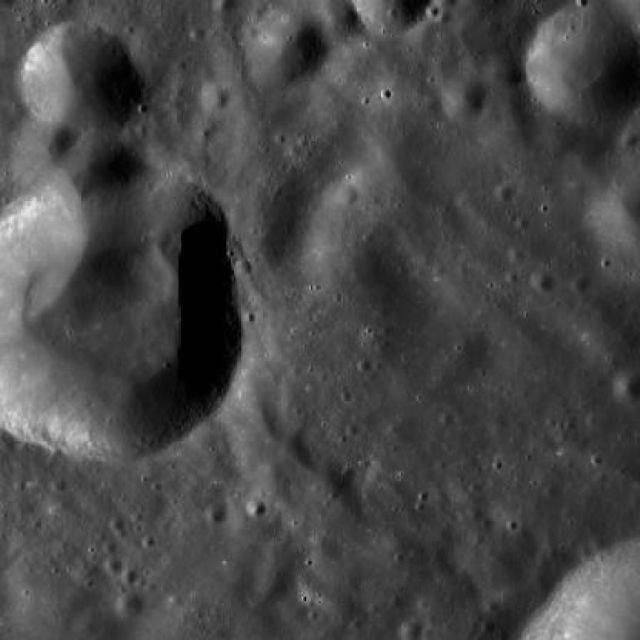crater: (0, 163, 246, 464), (265, 232, 418, 382), (310, 34, 438, 160), (21, 22, 144, 144), (323, 116, 446, 237), (208, 161, 316, 267), (272, 452, 368, 548), (52, 134, 146, 228), (240, 3, 328, 89), (235, 422, 318, 506), (10, 116, 86, 190), (284, 106, 358, 180), (463, 520, 534, 591), (220, 387, 280, 445), (296, 0, 366, 48), (372, 526, 428, 582), (224, 485, 280, 541), (441, 74, 488, 122), (412, 20, 456, 66), (536, 113, 578, 155), (252, 566, 292, 606), (124, 483, 164, 523), (454, 330, 492, 368), (267, 536, 304, 573), (484, 52, 522, 88), (426, 354, 460, 388), (429, 50, 463, 84), (310, 534, 342, 566), (278, 592, 307, 622), (201, 82, 230, 110), (116, 592, 142, 618), (530, 268, 556, 292), (206, 502, 227, 524), (336, 183, 358, 204), (400, 620, 422, 640), (496, 180, 516, 200), (247, 498, 266, 517), (458, 188, 476, 206), (572, 274, 590, 291), (106, 557, 123, 574), (622, 129, 638, 146), (235, 258, 252, 274), (214, 0, 234, 11)
